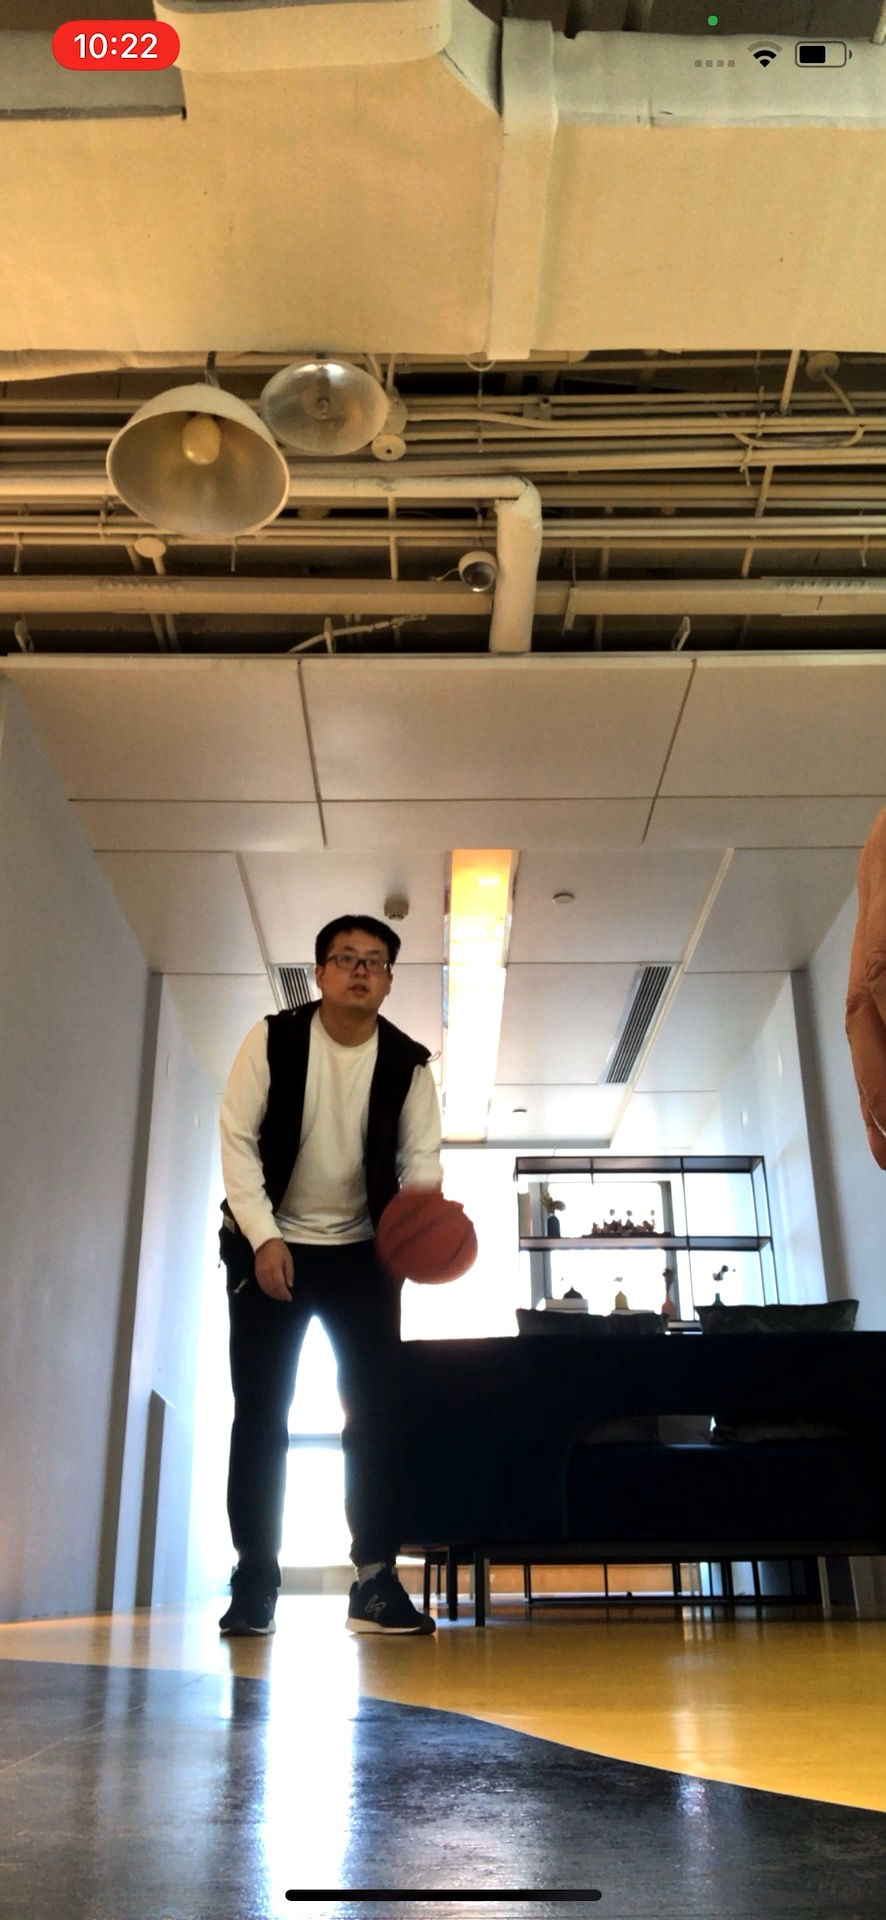ball: (381, 1190, 482, 1284)
